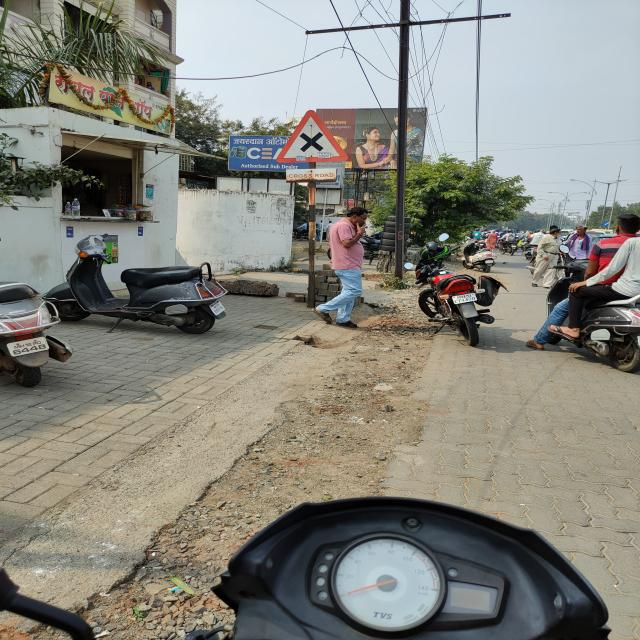CROSS_ROAD: (273, 110, 350, 164)
